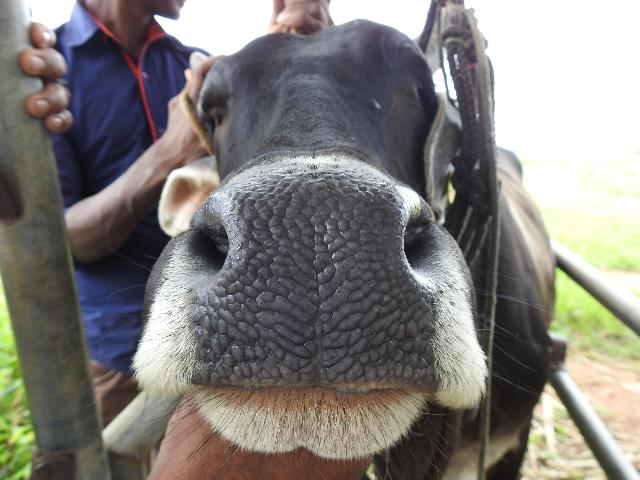Muzzle: (220, 182, 404, 372)
